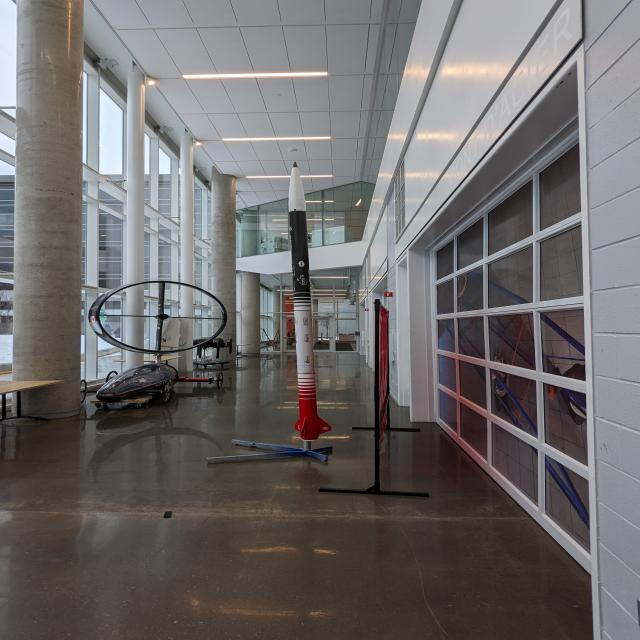Rocket: (289, 162, 332, 441)
